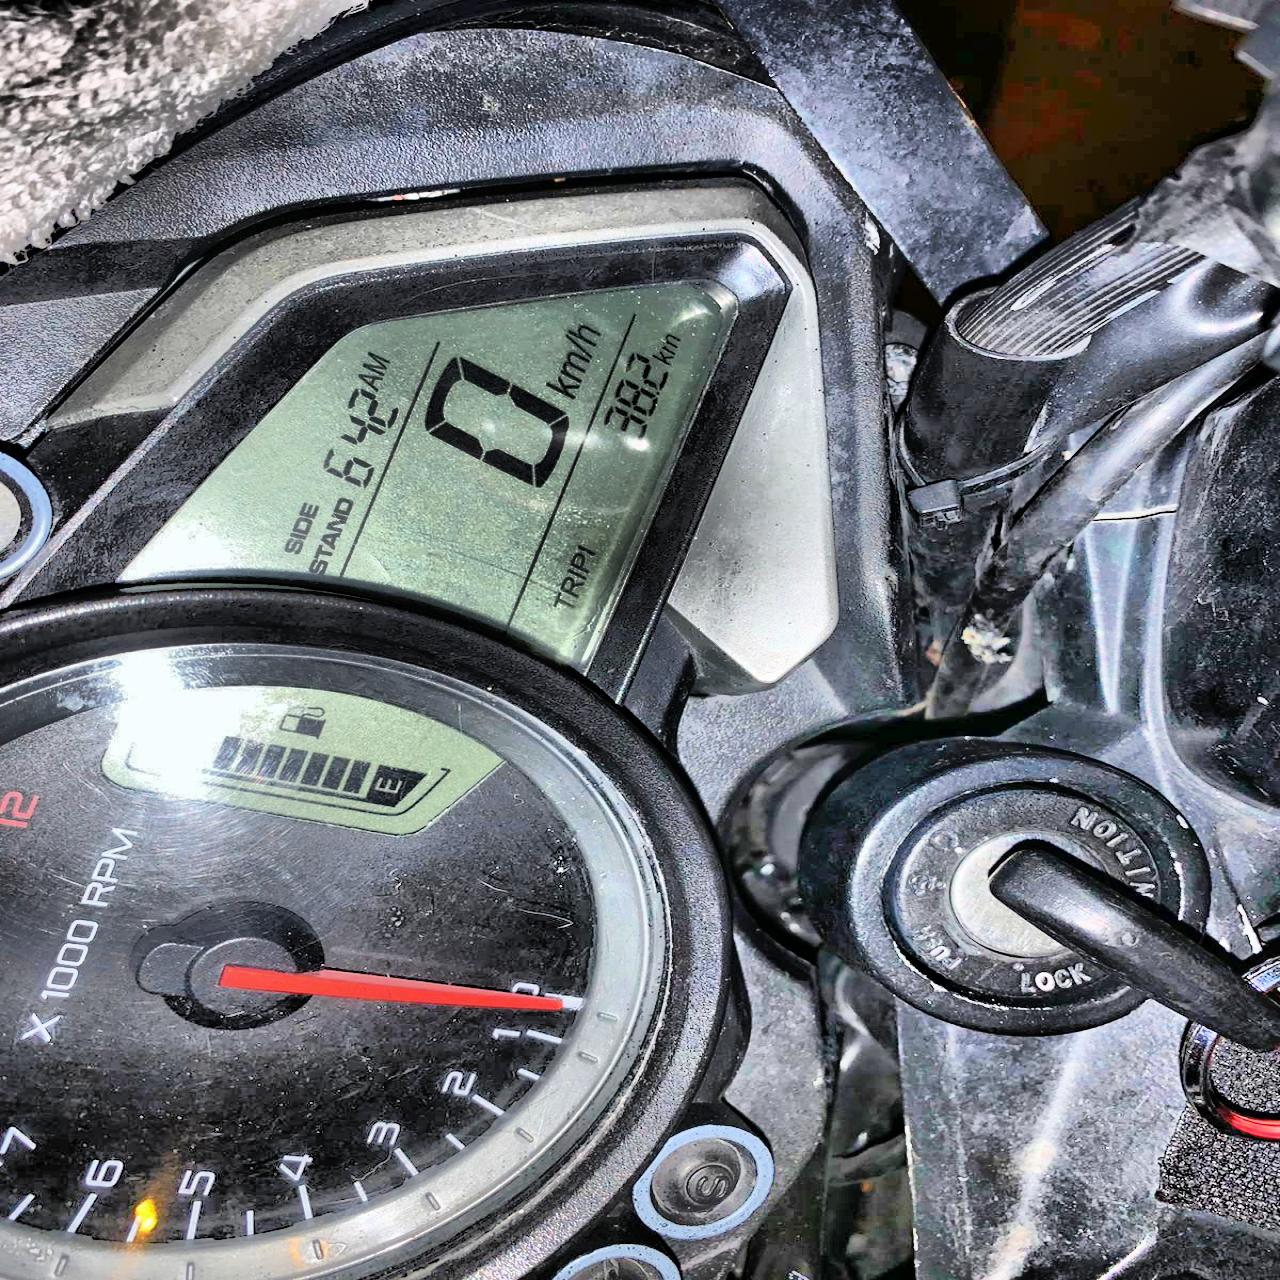-: (654, 390, 660, 395)
1: (573, 544, 597, 554)
2: (342, 389, 402, 424), (619, 352, 667, 389)
3: (600, 407, 647, 437)
4: (332, 413, 384, 445)
6: (314, 445, 375, 488)
8: (612, 379, 658, 414)
X: (563, 322, 606, 343), (556, 354, 586, 381), (543, 377, 580, 397), (358, 352, 392, 373), (561, 340, 592, 358), (321, 513, 350, 531), (353, 374, 382, 389), (565, 552, 588, 570), (557, 579, 583, 594), (331, 496, 353, 513), (316, 532, 341, 547), (659, 333, 679, 352), (290, 517, 312, 533), (295, 501, 318, 517), (305, 560, 328, 576), (550, 593, 572, 608), (312, 544, 333, 558), (280, 540, 302, 553), (564, 568, 586, 579), (651, 353, 674, 362), (285, 533, 307, 539)
odometer: (95, 271, 748, 844)
